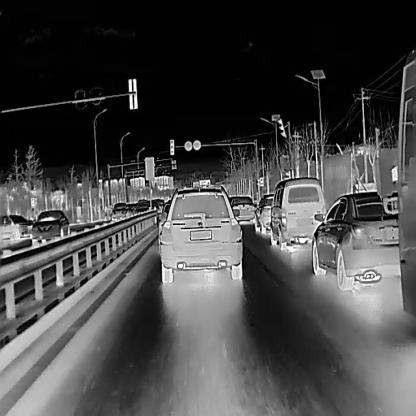bus: (382, 49, 416, 319)
car: (310, 190, 402, 291), (157, 184, 242, 282), (269, 175, 326, 250), (31, 207, 70, 241), (253, 193, 275, 233), (229, 194, 255, 224), (0, 214, 29, 239), (110, 200, 127, 223), (132, 202, 150, 218)
